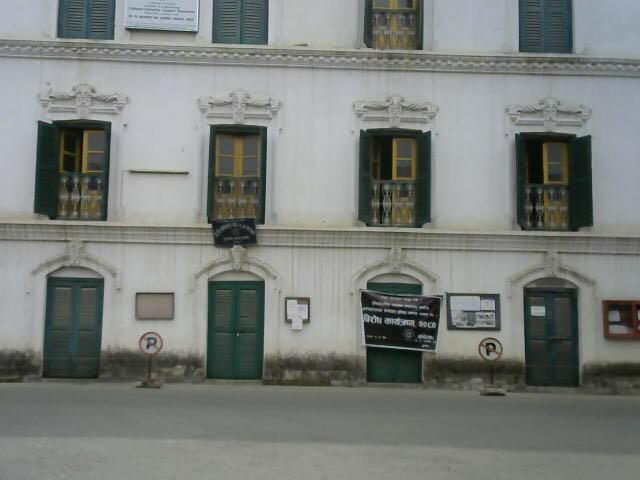Building: (2, 1, 640, 346)
Road: (0, 379, 640, 480)
Traffic sign: (469, 332, 525, 414), (138, 326, 170, 409)
